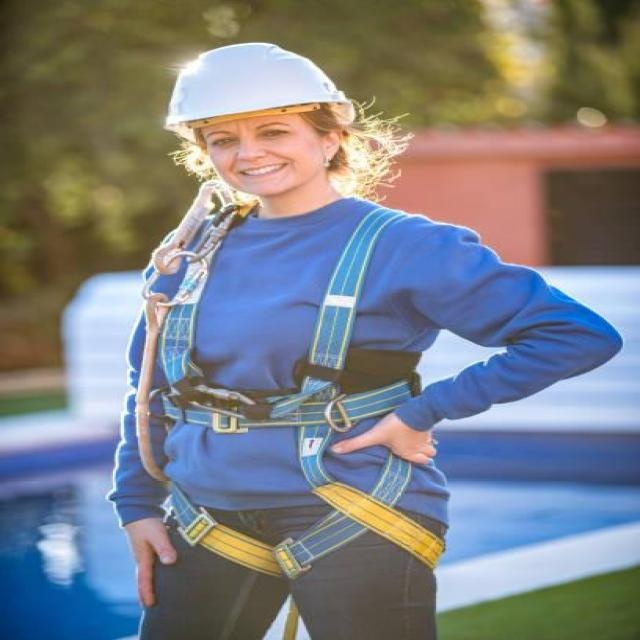Arnes_seguridad: (155, 204, 449, 583)
